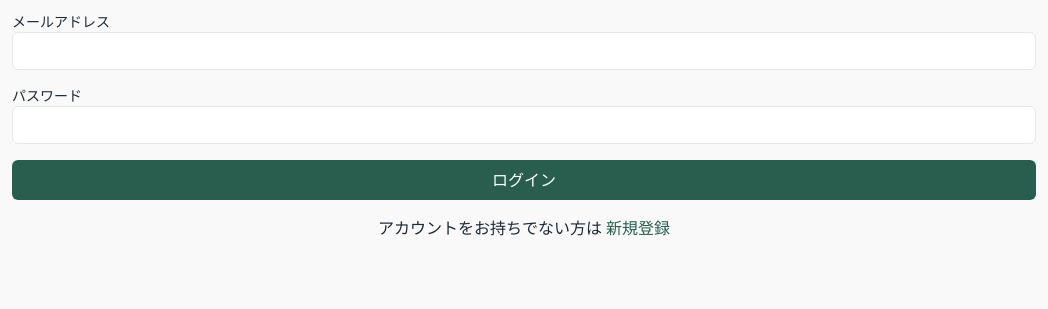
Scenario: AuthForm › ログインモード › バリデーションエラーが表示される
This screenshot has width=1048, height=309.
Click the button "ログイン" at (524, 180), box [12,160,1036,200]
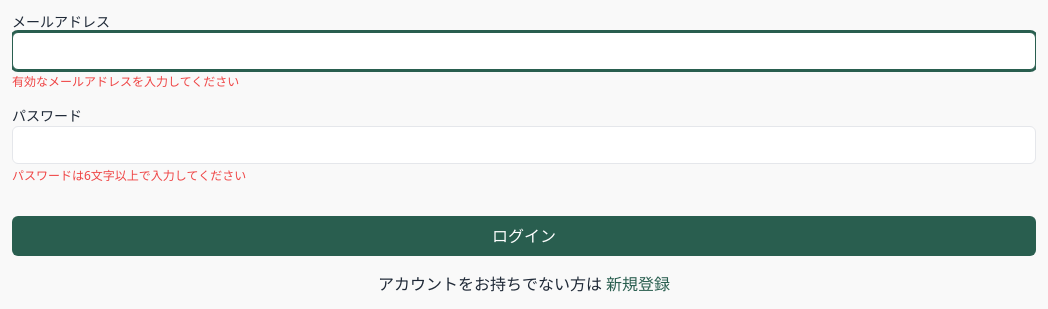
Check: the text "有効なメールアドレスを入力してください" is shown, box [12,73,239,90]
Check: the text "パスワードは6文字以上で入力してください" is shown, box [12,167,246,184]
